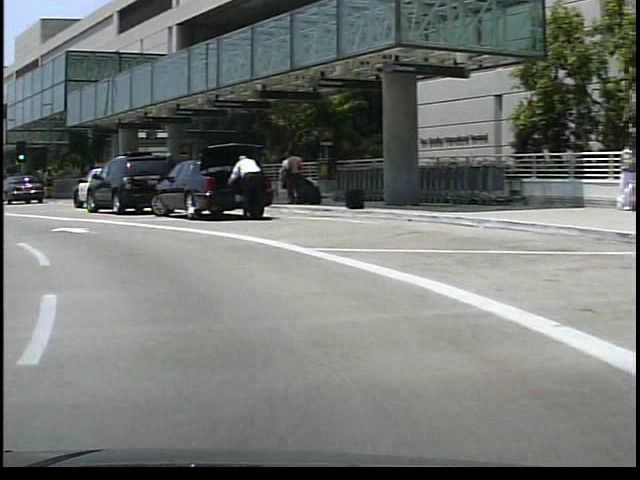person: (221, 154, 265, 227), (280, 151, 301, 210), (272, 150, 291, 209)
